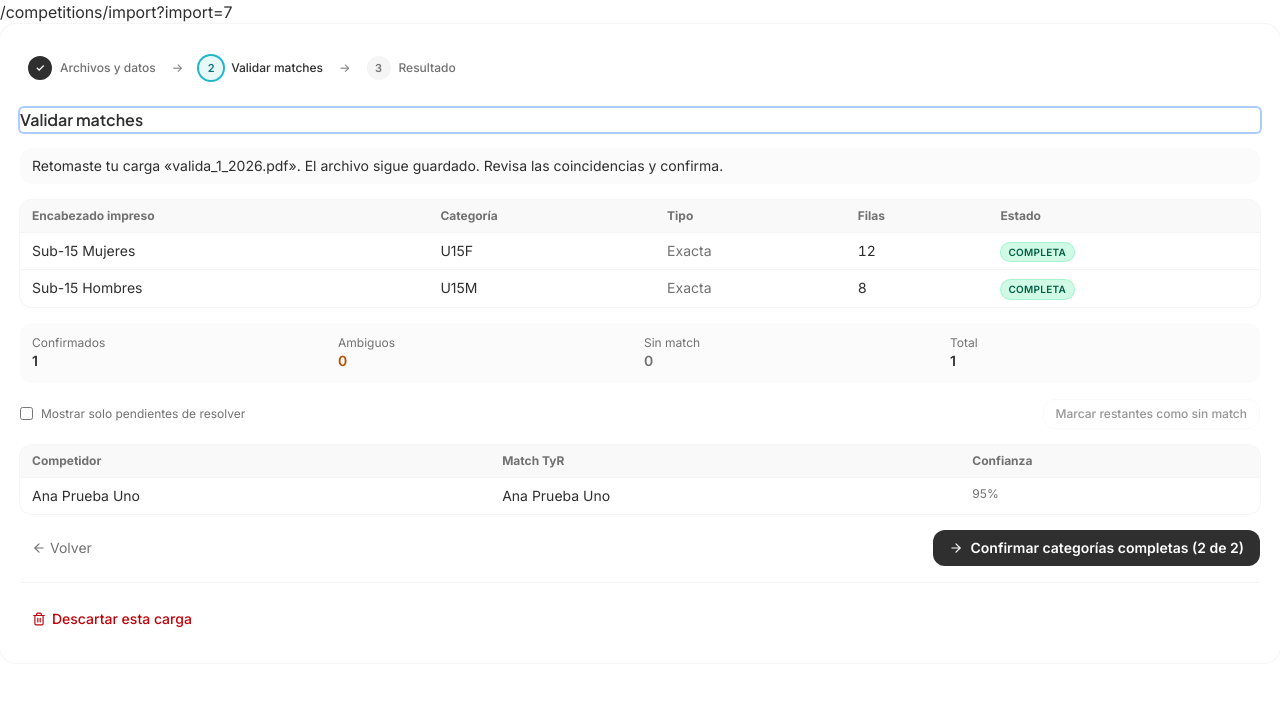
Test case: ImportWizard — retomar una carga (feature 045, US3) › a11y: cero violaciones en el diálogo de descartar
Click the button with test id "wizard-discard": (112, 619) [20,595,204,643]
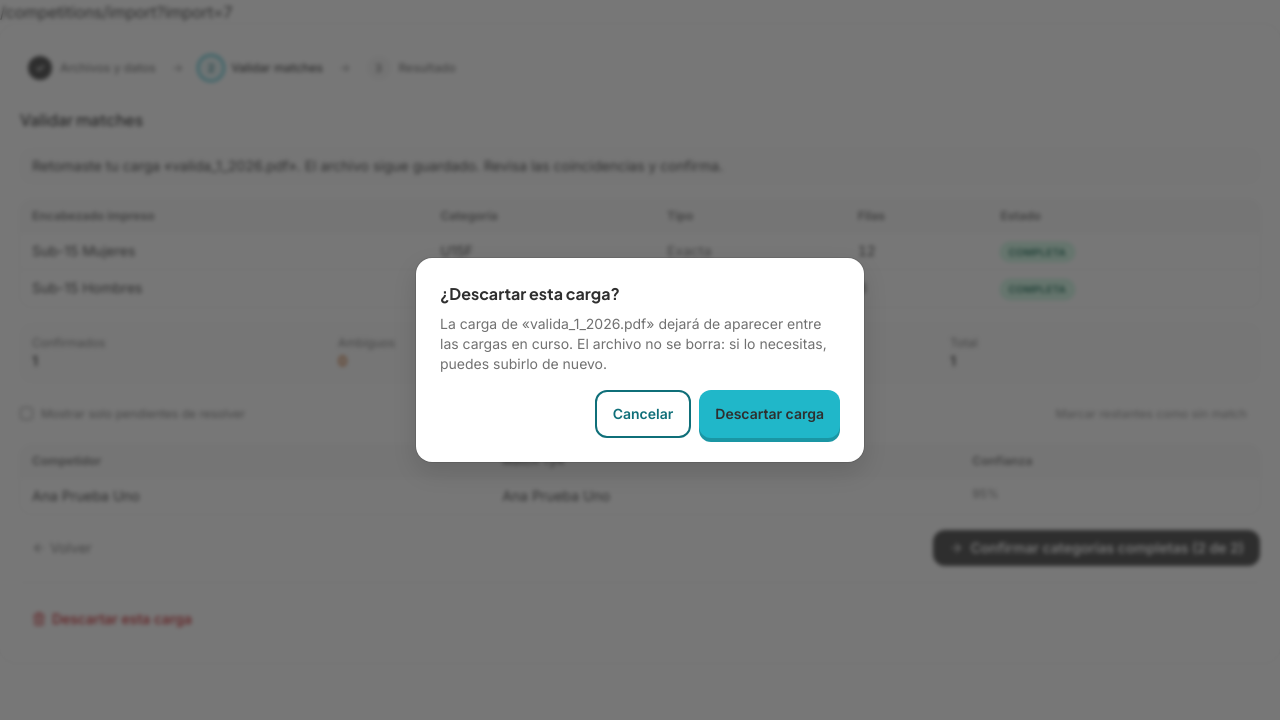
Check: the dialog with test id "discard-import-dialog" is shown, box [416,258,864,462]
